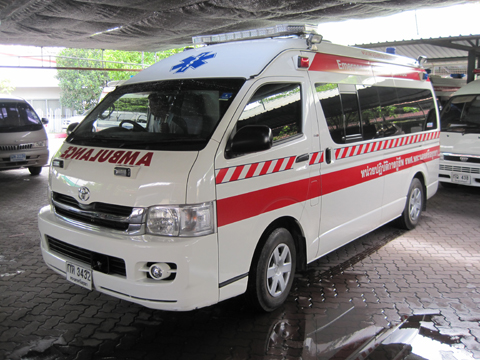van: (40, 35, 443, 316)
